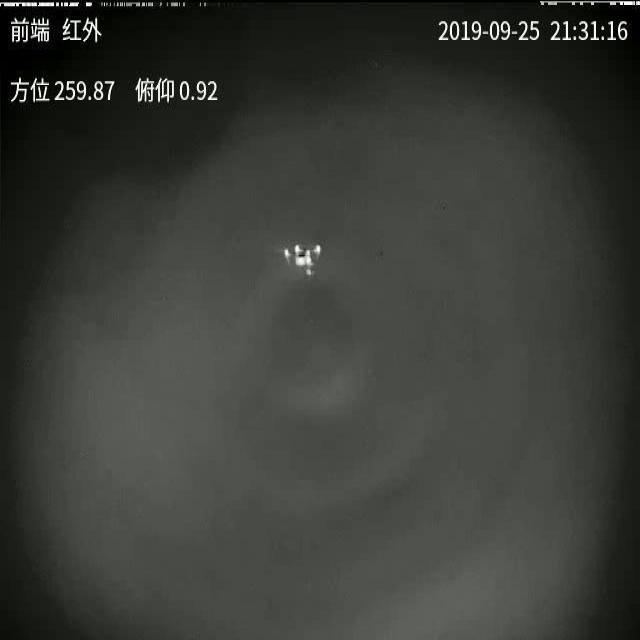drone: (278, 239, 326, 278)
